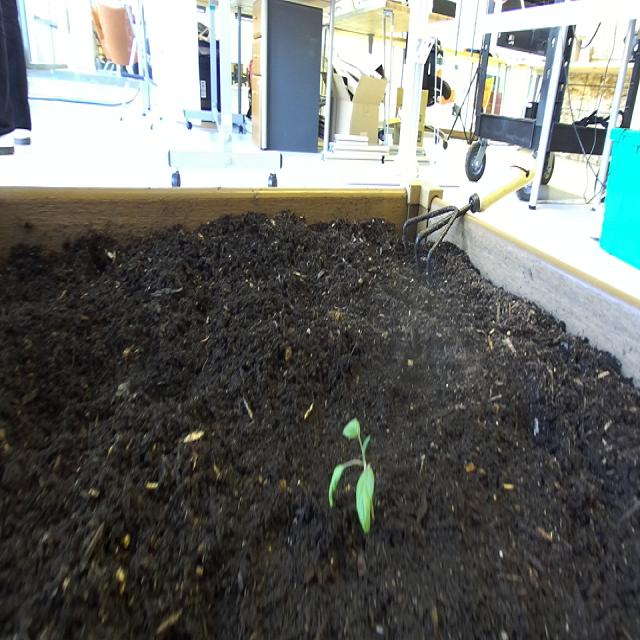Healthy: (327, 413, 381, 544)
